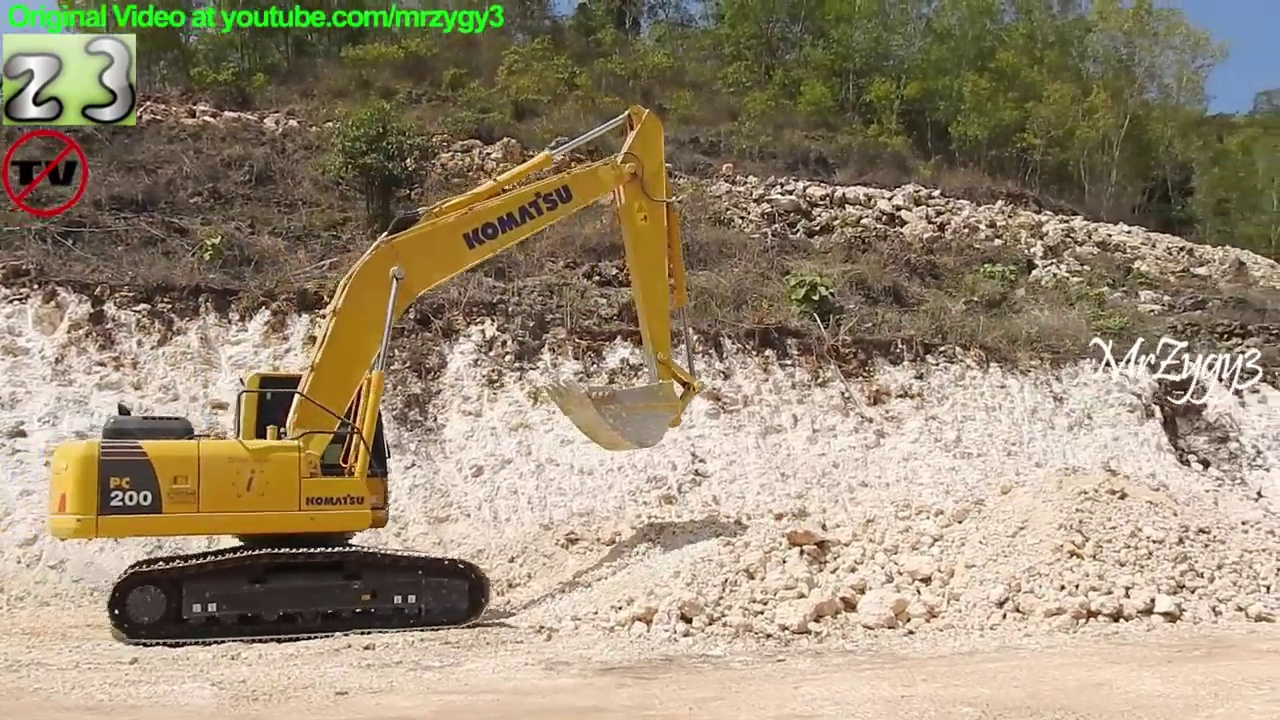excavator: (44, 99, 706, 654)
